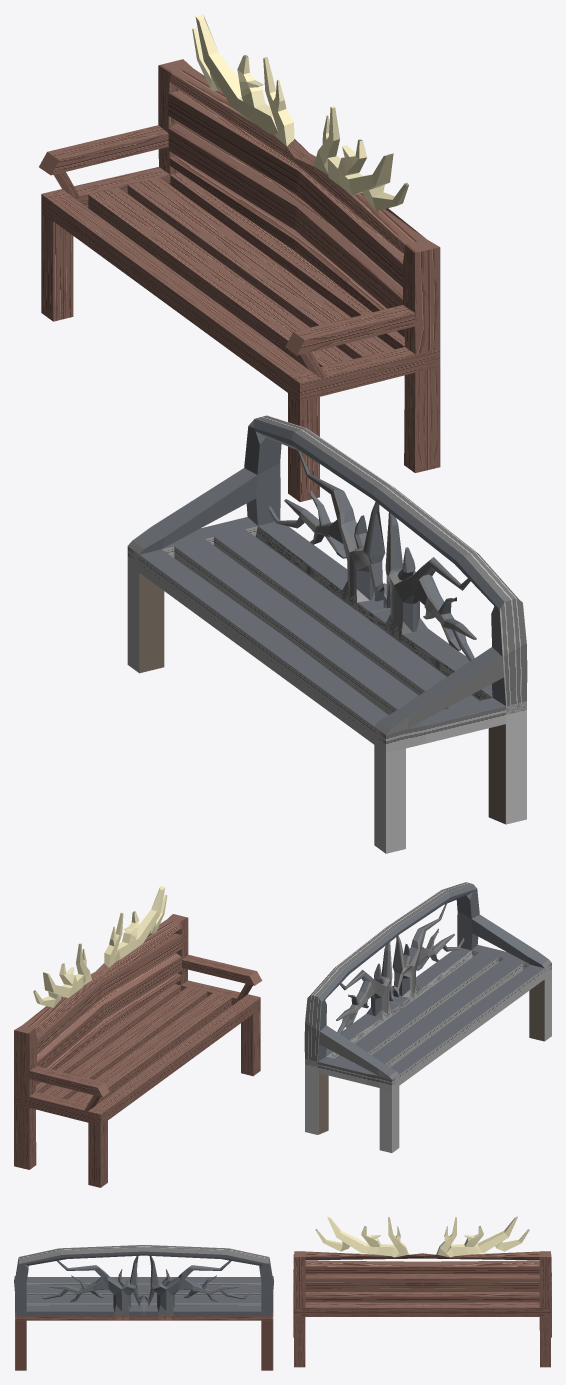
The model's file is Bench(Textured).fbx.
The picture shows the model from 3 angles, top to bottom: view 1: azimuth 30°, elevation 25°; view 2: azimuth 150°, elevation 25°; view 3: azimuth 270°, elevation 25°; orthographic projection. The views are drawn at different scales.
Visible parts, largest first — view 1: Cube.001, Cube; view 2: Cube.001, Cube; view 3: Cube.001, Cube.
Part boxes in pixels (x1,y1,x2,y2): Cube.001: (39, 14, 440, 501); Cube: (127, 415, 527, 853); Cube.001: (14, 886, 262, 1187); Cube: (304, 882, 551, 1152); Cube.001: (293, 1216, 551, 1367); Cube: (14, 1245, 273, 1370).
Bounding box in the file's own units: 838 × 939 × 2319.
